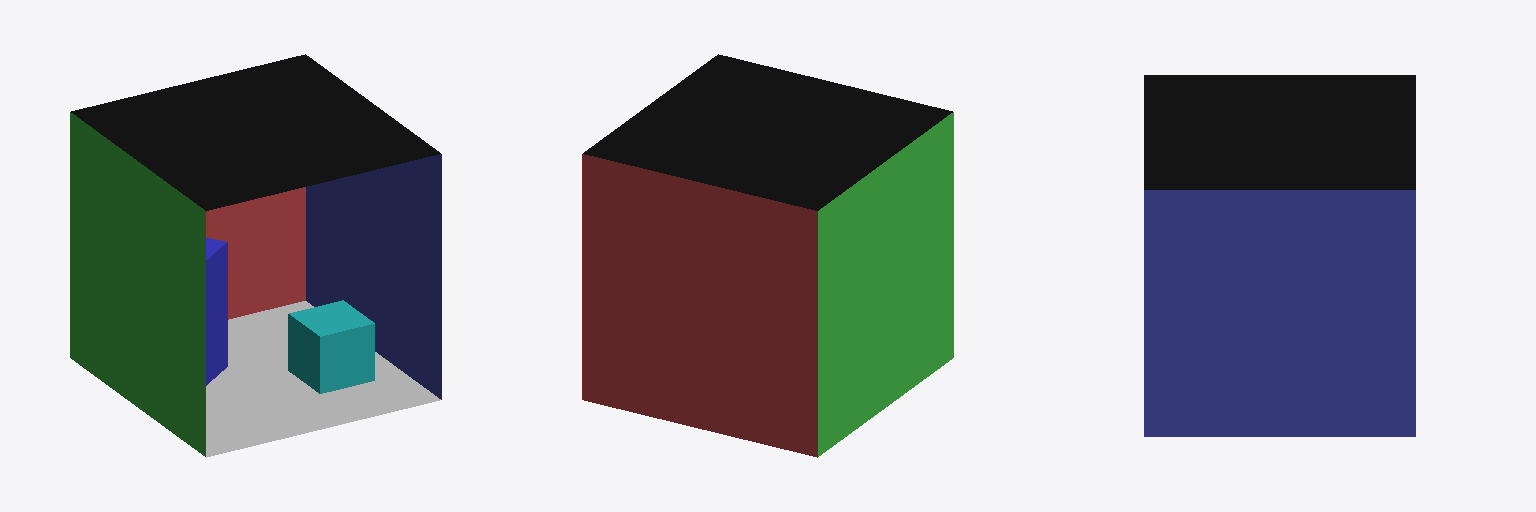
File: cornell_textured.obj
The picture shows the model from 3 angles: view 1: azimuth 30°, elevation 25°; view 2: azimuth 150°, elevation 25°; view 3: azimuth 270°, elevation 25°; orthographic projection.
Bounding box in the file's own units: 2 × 2 × 2.